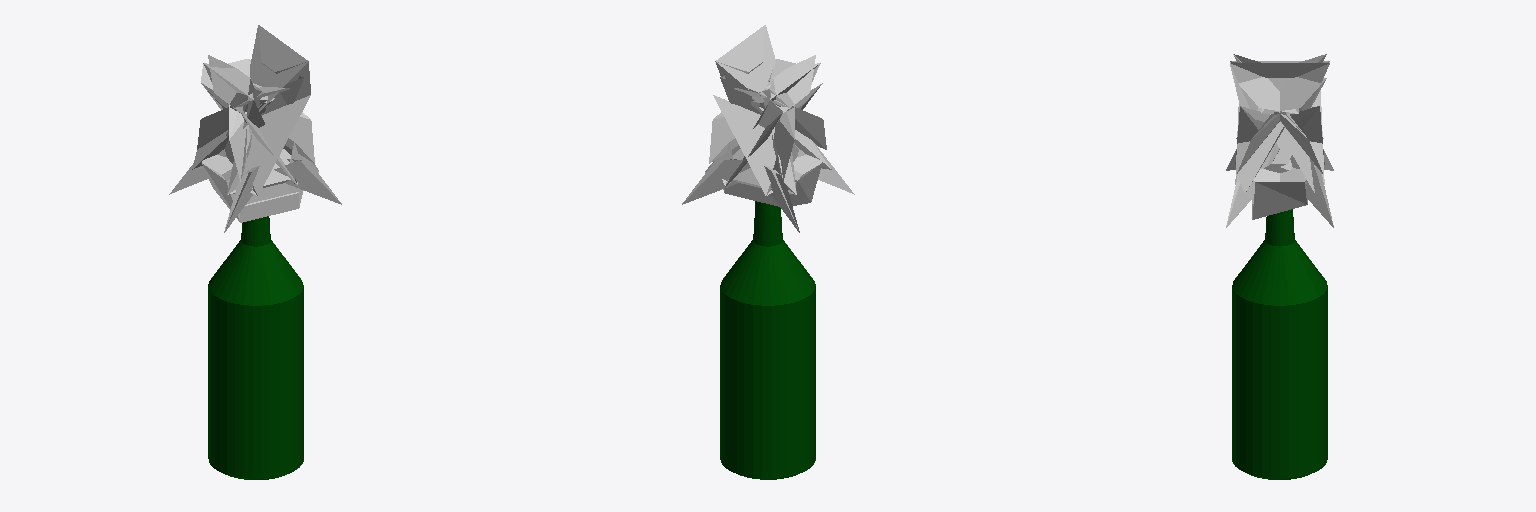
The model's file is bottle.obj.
The picture shows the model from 3 angles: view 1: azimuth 30°, elevation 25°; view 2: azimuth 150°, elevation 25°; view 3: azimuth 270°, elevation 25°; orthographic projection.
Visible parts, largest first — view 1: Circle, Cube; view 2: Circle, Cube; view 3: Circle, Cube.
Boxes of the visible parts, x1,y1,x2,y2 form: Circle: [208, 216, 303, 479]; Cube: [169, 25, 341, 232]; Circle: [720, 201, 815, 479]; Cube: [682, 25, 854, 232]; Circle: [1232, 209, 1327, 479]; Cube: [1226, 54, 1333, 227].
Bounding box in the file's own units: 1.03 × 3.4 × 0.8136.